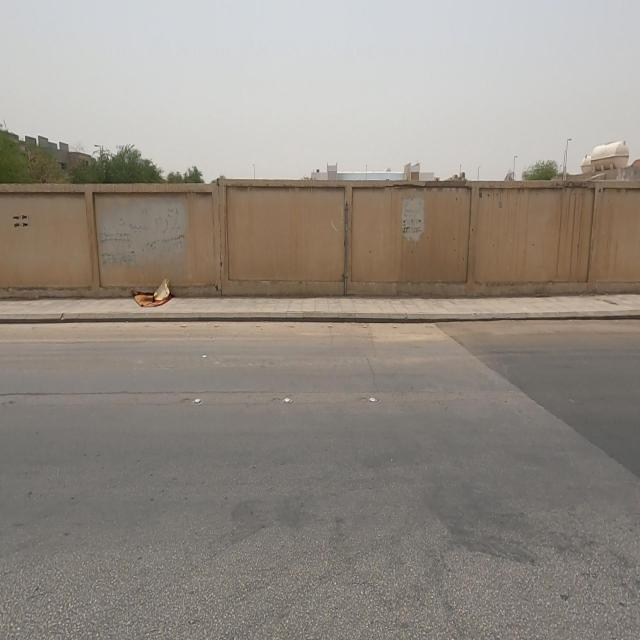Graffiti: (101, 210, 190, 276), (400, 200, 424, 237), (12, 215, 31, 231)
